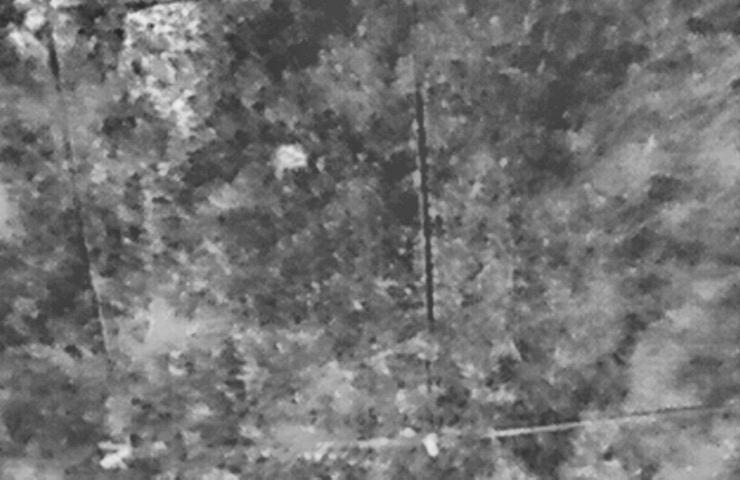landmines: (267, 142, 315, 176)
